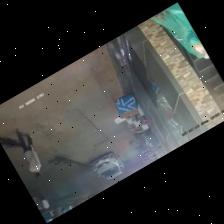person: (16, 129, 40, 176), (38, 191, 48, 209)
